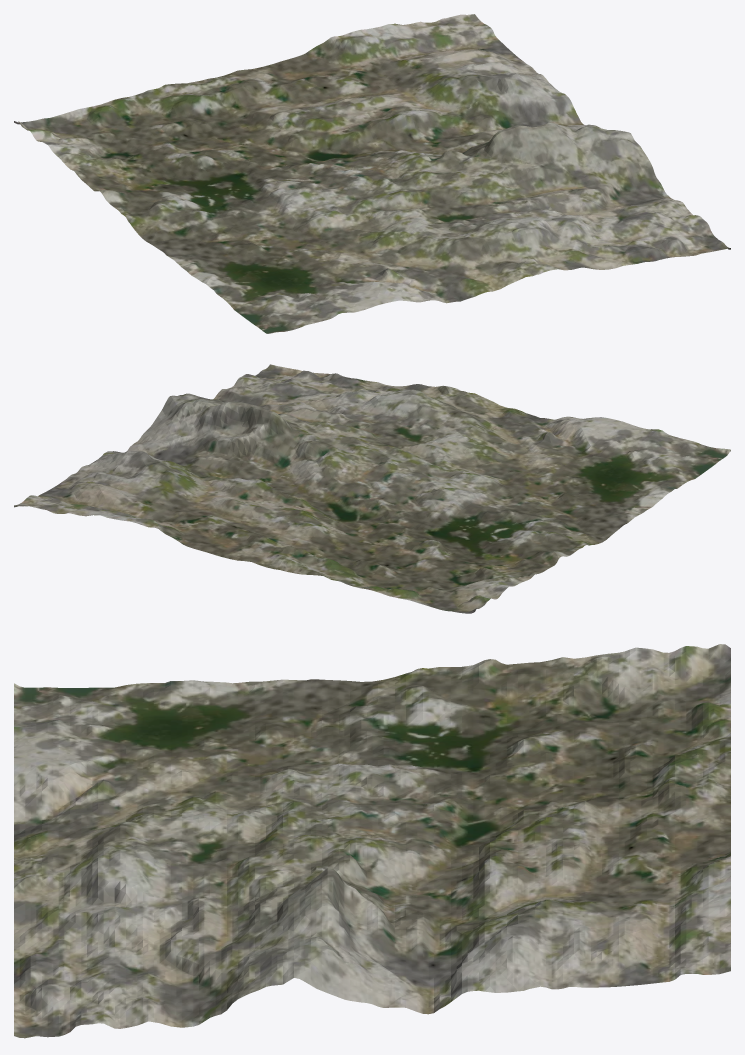
3 views of the same model, one above another, from view 1: azimuth 30°, elevation 25°; view 2: azimuth 150°, elevation 25°; view 3: azimuth 270°, elevation 25° (orthographic). The views are drawn at different scales.
Bounding box in the file's own units: 250 × 34.9 × 241.
Materials: 1 (1 with a texture image).
